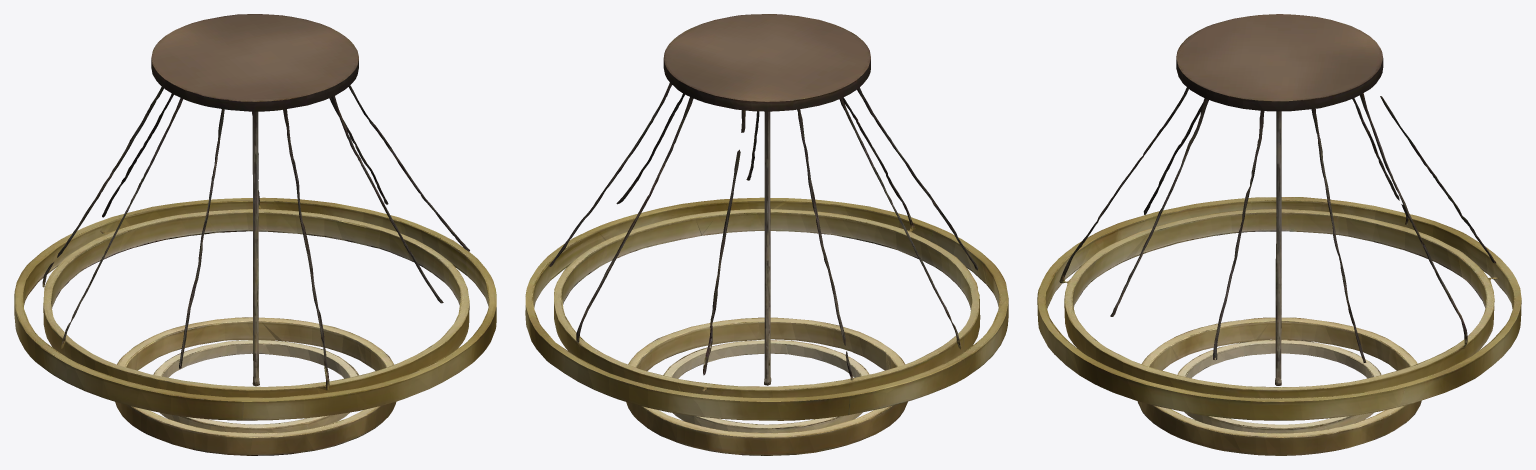
Rendered from chandelier_ring_gold.glb.
3 renders of one model, left to right at view 1: azimuth 30°, elevation 25°; view 2: azimuth 150°, elevation 25°; view 3: azimuth 270°, elevation 25°, orthographic.
Visible parts, largest first — view 1: geometry_0; view 2: geometry_0; view 3: geometry_0.
Boxes of the visible parts, x1,y1,x2,y2 form: geometry_0: [14, 14, 496, 455]; geometry_0: [525, 14, 1008, 455]; geometry_0: [1037, 14, 1521, 455].
Size of the model in its own units: 1 by 0.7719 by 1.
Materials: 1 (1 with a texture image).
